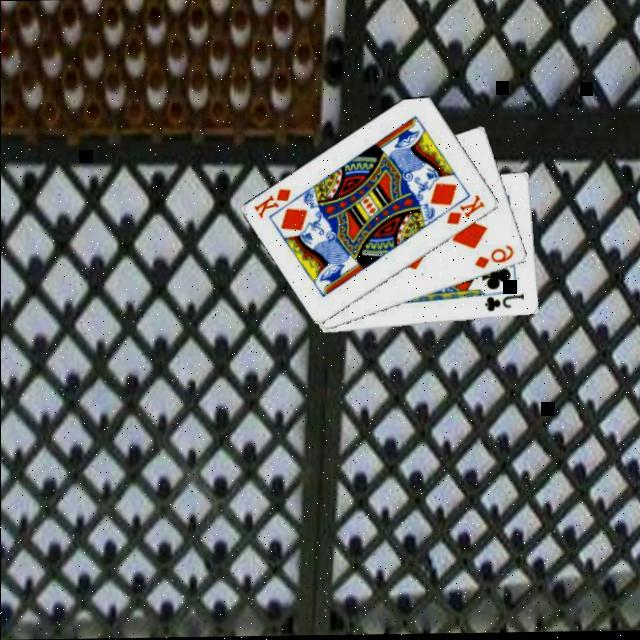6D: (470, 245, 516, 275)
JC: (480, 294, 526, 318)
KD: (248, 187, 293, 224), (442, 193, 486, 230)
